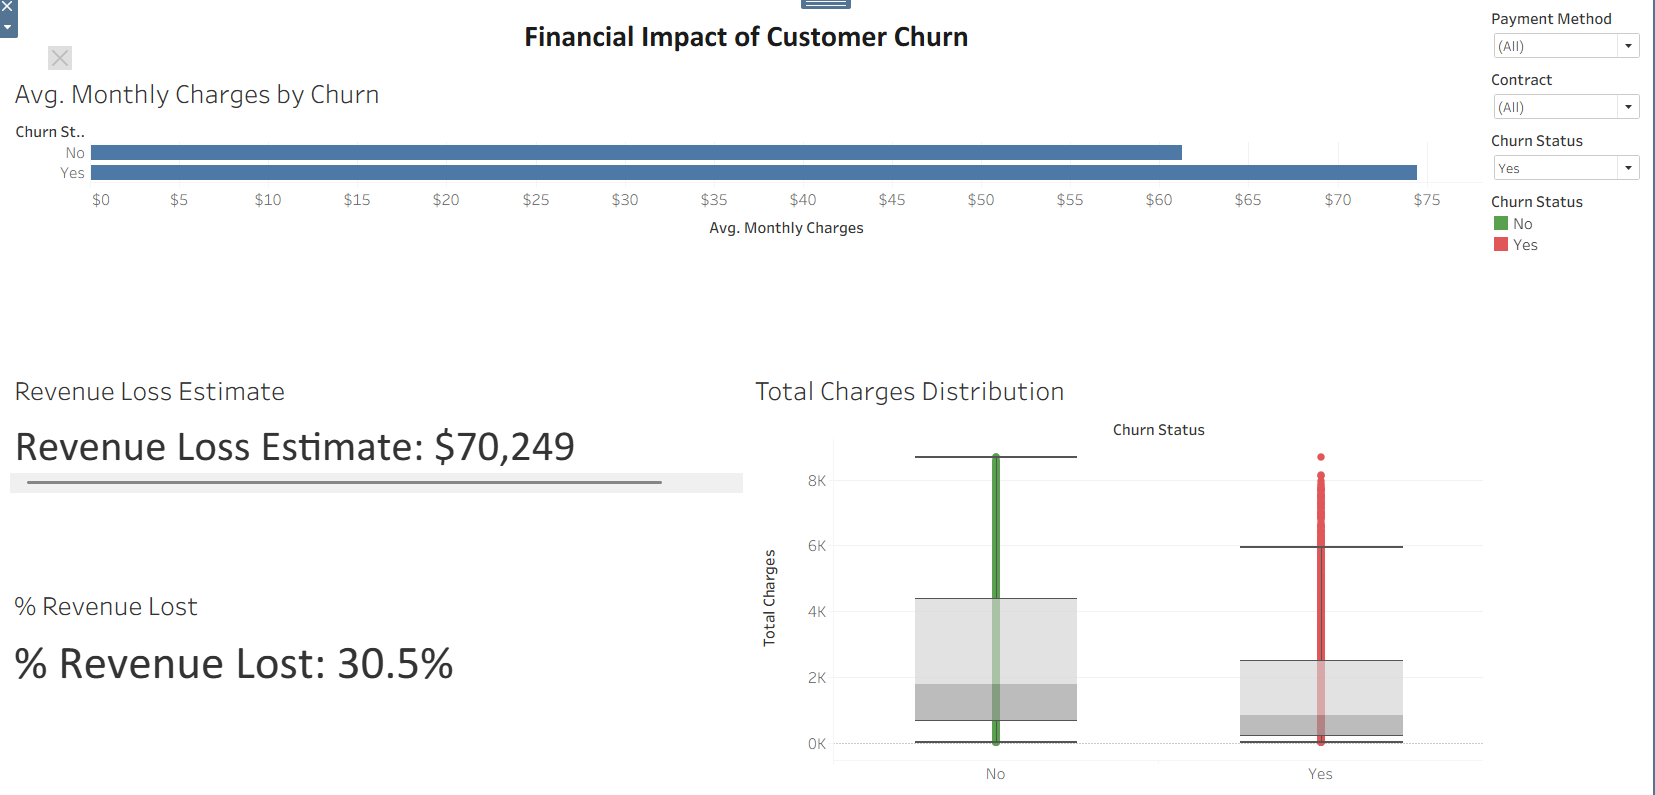

The dashboard page shown, as its layout file describes it:
{"tool":"tableau","page":{"name":"Financial Impact Dashboard","canvas":[1000,1000],"units":"permille","ordinal":2},"visuals":[{"type":"text","box":[4.8,10,893.8,80.1]},{"type":"filter","title":"Revenue Loss Estimate","param":"[federated.1h76gci1q36jpl1ed8xuy0itcxqn].[none:PaymentMethod:nk]","box":[898.6,10,96.6,76.2]},{"type":"dashboard-object","box":[30.2,62.4,14.5,30]},{"type":"filter","title":"Revenue Loss Estimate","param":"[federated.1h76gci1q36jpl1ed8xuy0itcxqn].[none:Contract:nk]","box":[898.6,86.2,96.6,76.2]},{"type":"worksheet","title":"Avg. Monthly Charges by Churn","mark":"Bar","rows":["Calculation_1668302235085369344"],"cols":["MonthlyCharges"],"box":[4.8,90.1,893.8,370.6]},{"type":"filter","title":"Revenue Loss Estimate","param":"[federated.1h76gci1q36jpl1ed8xuy0itcxqn].[none:Calculation_1668302235085369344:n","box":[898.6,162.3,96.6,76.2]},{"type":"legend","title":"Total Charges Distribution","param":"[federated.1h76gci1q36jpl1ed8xuy0itcxqn].[none:Calculation_1668302235085369344:n","box":[898.6,238.5,96.6,89.9]},{"type":"worksheet","title":"Revenue Loss Estimate","mark":"Text","box":[4.8,460.7,446.9,268.4]},{"type":"worksheet","title":"Total Charges Distribution","mark":"Circle","rows":["TotalCharges"],"cols":["Calculation_1668302235085369344"],"box":[451.7,460.7,446.9,529.3]},{"type":"worksheet","title":"% Revenue Lost","mark":"Automatic","box":[4.8,729.1,446.9,260.9]}]}

Visuals, with their boxes on the dashboard's canvas, which has no fixed pixel size, in thousandths of its width and height (x1, y1, x2, y2). These are canvas units, not pixel positions in the 1655x795 screenshot, which may show the page scaled, cropped or inside an application window:
text: crop(5, 10, 899, 90)
"Revenue Loss Estimate" filter: crop(899, 10, 995, 86)
dashboard-object: crop(30, 62, 45, 92)
"Revenue Loss Estimate" filter: crop(899, 86, 995, 162)
"Avg. Monthly Charges by Churn" worksheet (Bar marks): crop(5, 90, 899, 461)
"Revenue Loss Estimate" filter: crop(899, 162, 995, 238)
"Total Charges Distribution" legend: crop(899, 238, 995, 328)
"Revenue Loss Estimate" worksheet (Text marks): crop(5, 461, 452, 729)
"Total Charges Distribution" worksheet (Circle marks): crop(452, 461, 899, 990)
"% Revenue Lost" worksheet: crop(5, 729, 452, 990)
